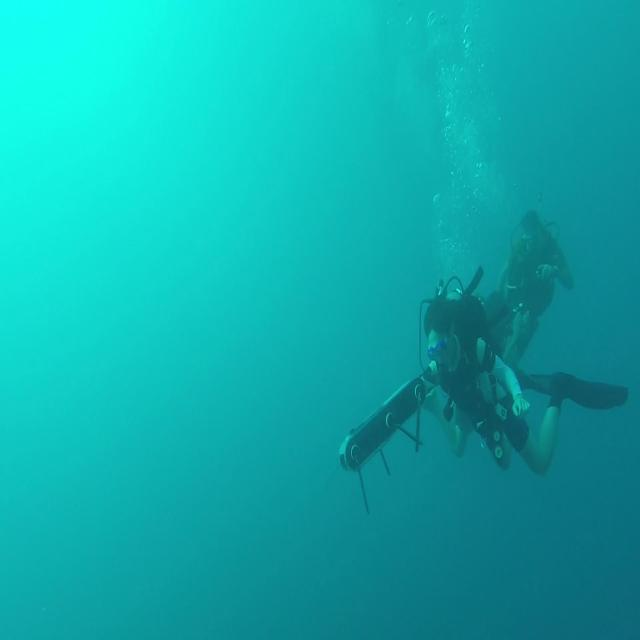human: (420, 275, 628, 475), (484, 208, 574, 372)
